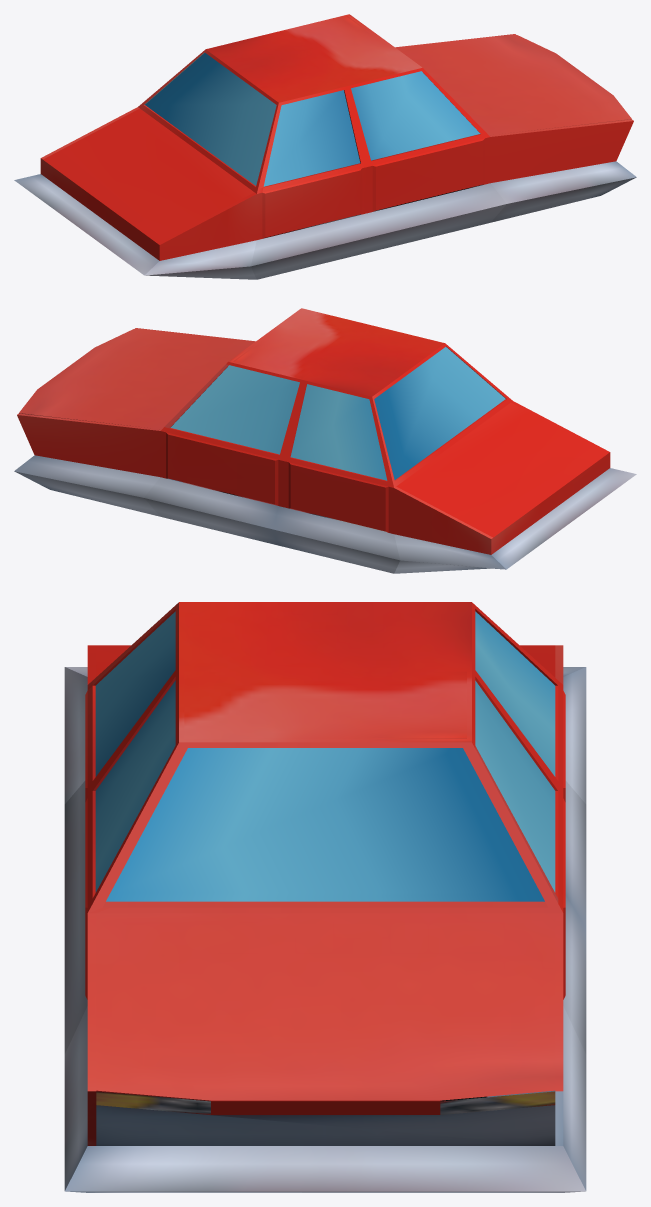
Rendered from car.obj.
The picture shows the model from 3 angles, top to bottom: view 1: azimuth 30°, elevation 25°; view 2: azimuth 150°, elevation 25°; view 3: azimuth 270°, elevation 25°; orthographic projection. The views are drawn at different scales.
Parts seen in each view (by area): view 1: Cube; view 2: Cube; view 3: Cube.
Part boxes in pixels (x1,y1,x2,y2): Cube: (14,14,636,279); Cube: (14,308,636,573); Cube: (64,602,586,1192).
Bounding box in the file's own units: 12.34 × 3.48 × 5.51.
1 material, 1 textured.
